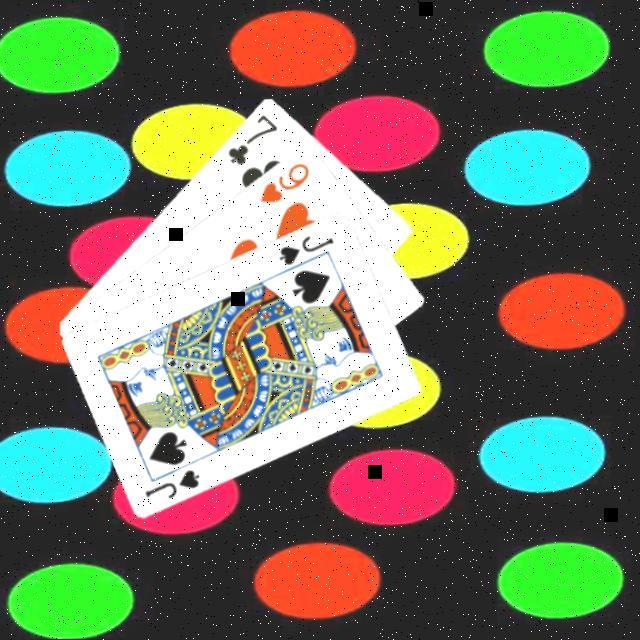7C: (225, 110, 283, 168)
9H: (257, 158, 315, 206)
JS: (276, 231, 339, 268), (143, 464, 205, 501)
